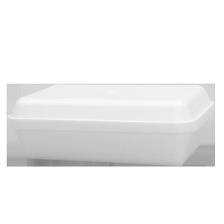foam_box: (6, 83, 215, 166)
